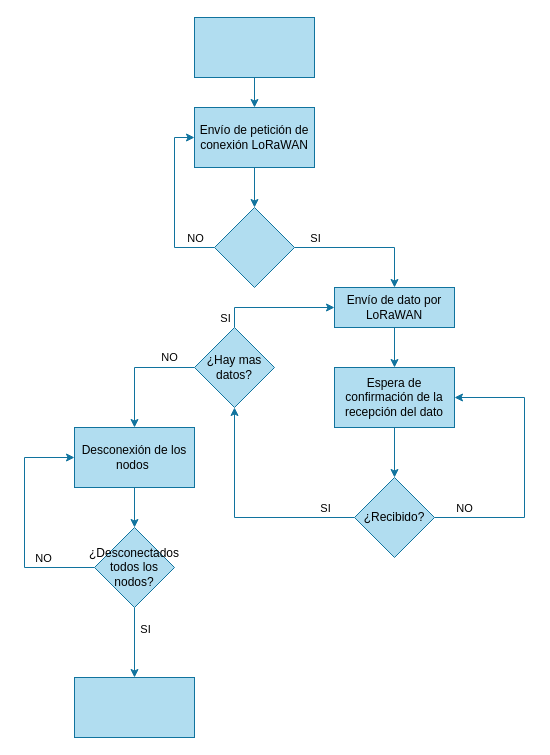
Some shapes in this 550 by 755 pixel diagram are drawn without their labels. The shapes that lost their labels are listed below. From the top down, each one's centre as x and y in pixels, then its label:
At pixel 254 47: "Envío de datos por LoRaWAN".
At pixel 254 247: "¿Conexión establecida?".
At pixel 134 707: "Reinicio de valores y temporizador".
